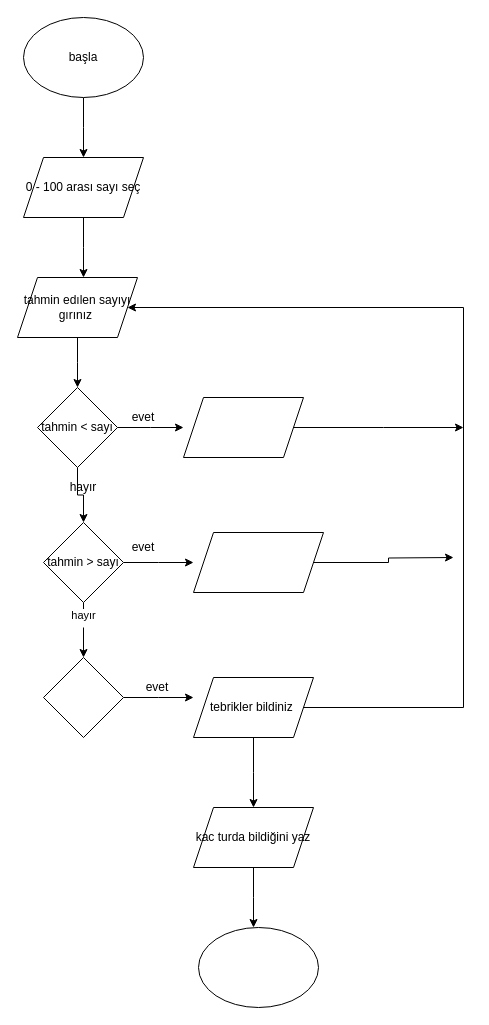
This 489x1025 diagram has some shape labels left out. The centre of each missing label's shape, as x and y in pixels:
"dur" goes at [258,967].
"sayıyı büyütünüz" goes at [243,427].
"sayıyı küçültünüz" goes at [258,562].
"tahmın =sayı" goes at [83,697].
